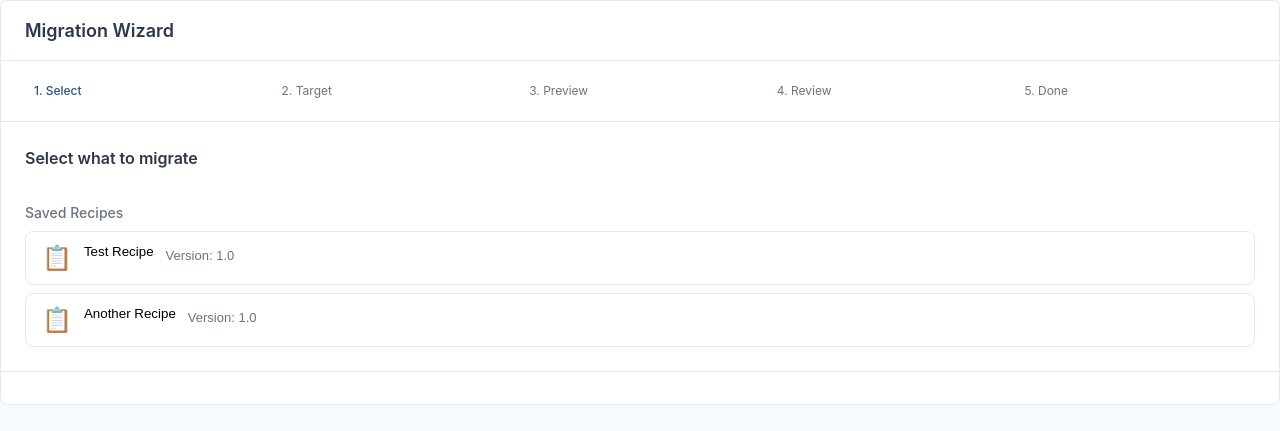
Test: MigrationWizard › Step 2: Target Selection › should navigate to preview step when version is selected
Click the text "Test Recipe" at (119, 252), box [84, 244, 154, 259]
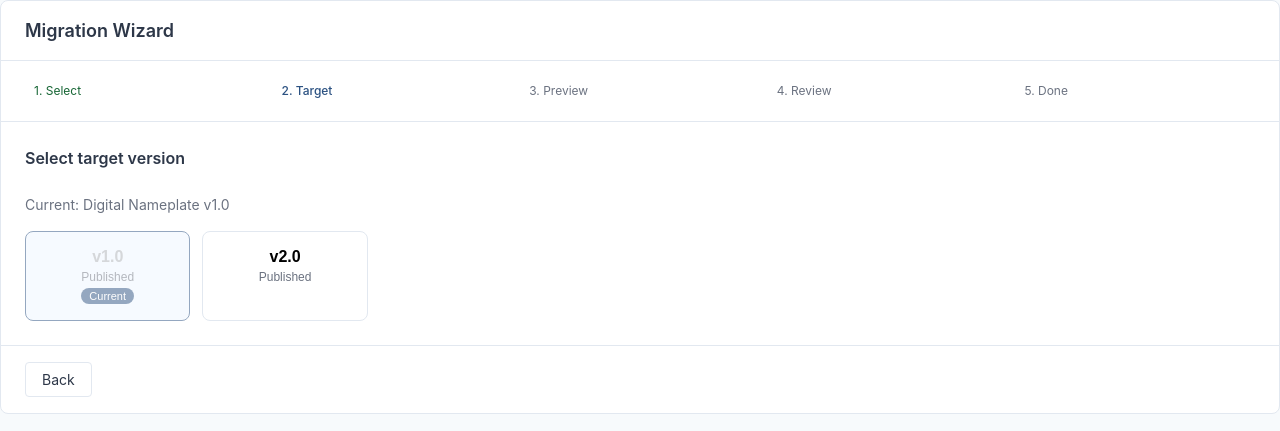
Result: the heading "Select target version" is shown at [25, 148, 185, 168]
Click the text "v2.0" at (285, 257), box [270, 248, 301, 266]
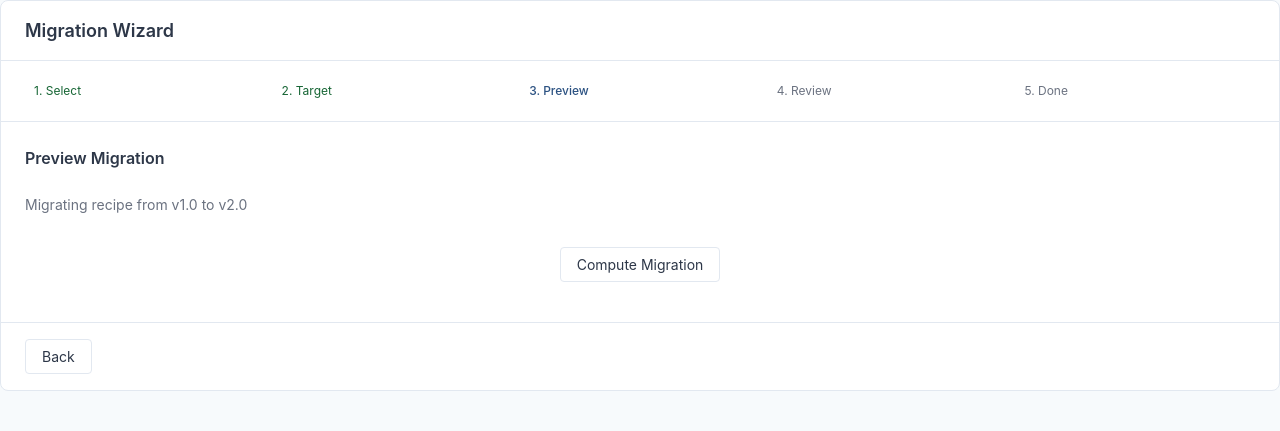
Result: the heading "Preview Migration" is shown at [25, 148, 164, 168]
